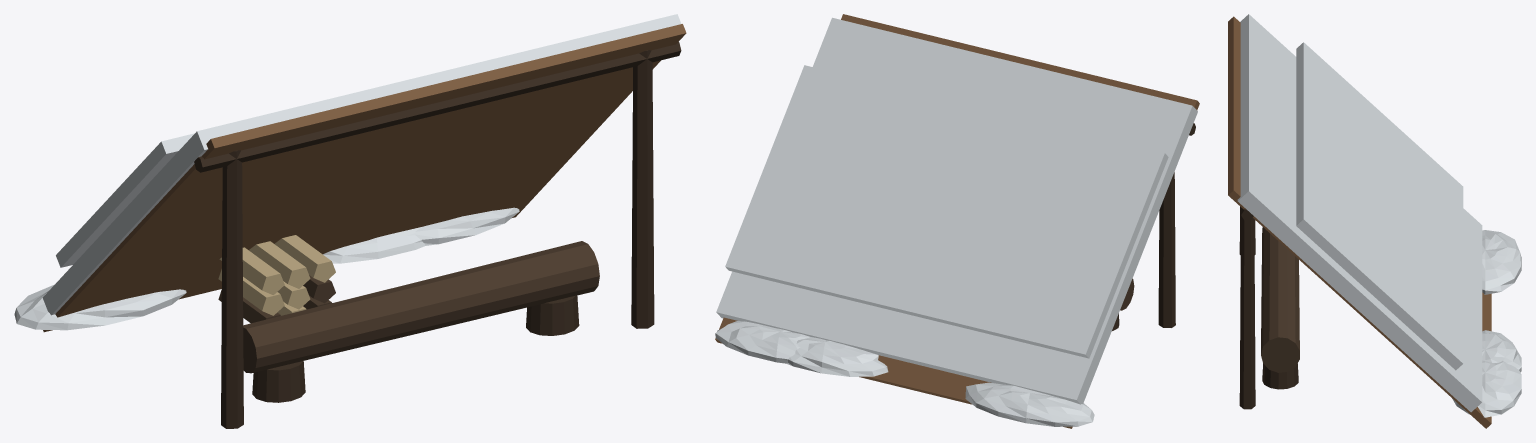
Rendered from dragonspine-lean-to.glb.
3 renders of one model, left to right at view 1: azimuth 30°, elevation 25°; view 2: azimuth 150°, elevation 25°; view 3: azimuth 270°, elevation 25°, orthographic. The views are drawn at different scales.
Parts seen in each view (by area): view 1: Body_Hide, Body_WoodDark, Body_Snow, Body_Wood, Body_WoodCut; view 2: Body_Snow, Body_Hide, Body_WoodDark; view 3: Body_Snow, Body_Wood, Body_WoodDark, Body_Hide.
Boxes of the visible parts, x1,y1,x2,y2 form: Body_Hide: (43,24,686,332); Body_WoodDark: (194,42,681,428); Body_Snow: (14,14,681,330); Body_Wood: (218,241,599,373); Body_WoodCut: (218,235,335,315); Body_Snow: (715,17,1197,426); Body_Hide: (715,14,1199,428); Body_WoodDark: (1112,123,1195,330); Body_Snow: (1237,14,1521,417); Body_Wood: (1261,227,1299,372); Body_WoodDark: (1239,206,1298,409); Body_Hide: (1228,16,1491,428).
Bounding box in the file's own units: 3 × 1.8 × 2.
